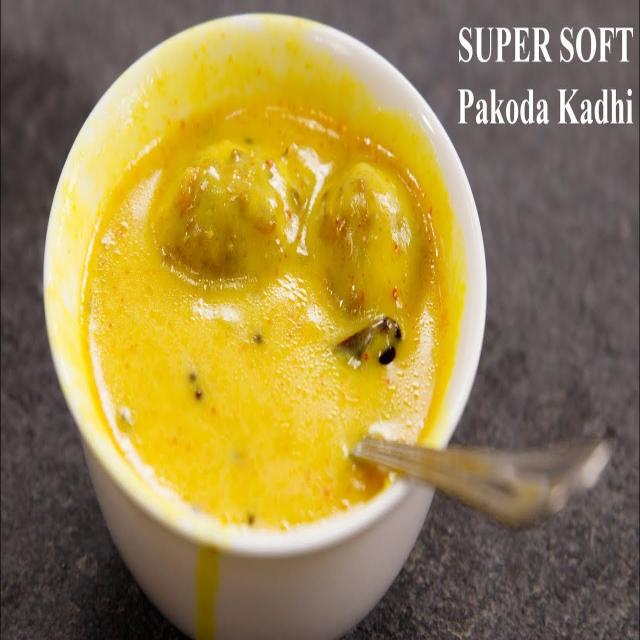Kadhi Pakora: (82, 106, 450, 534)
